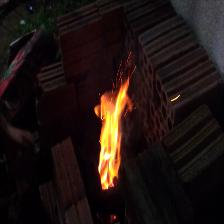fire: (84, 64, 145, 197)
